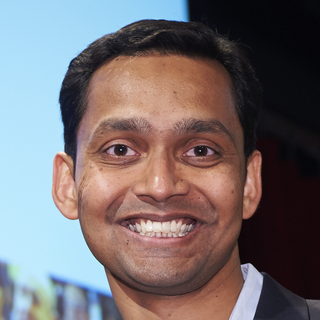eye: (169, 132, 229, 172), (90, 130, 149, 169)
